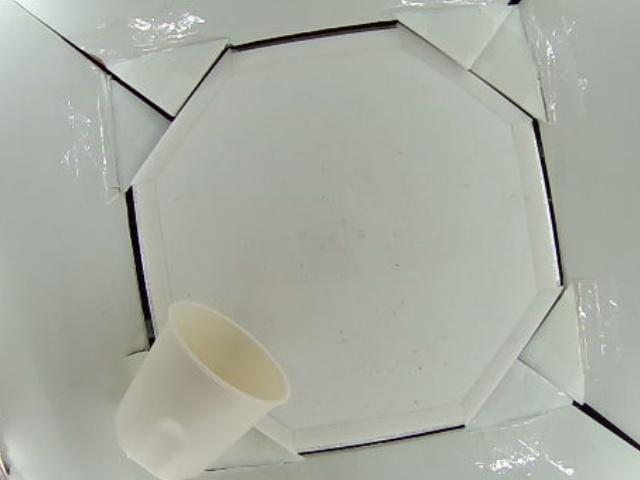Cup: (112, 302, 288, 480)
